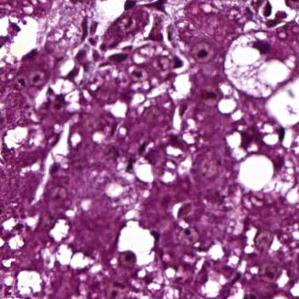ballooning: (222, 29, 298, 102)
